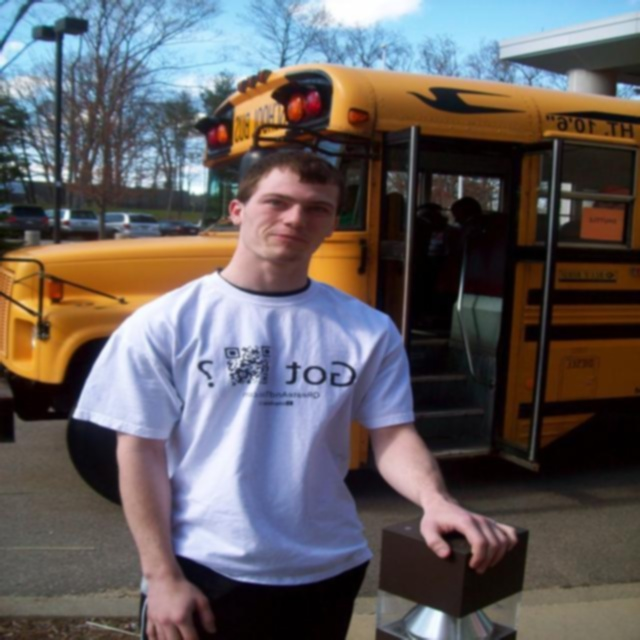qr-code: (224, 346, 272, 385)
